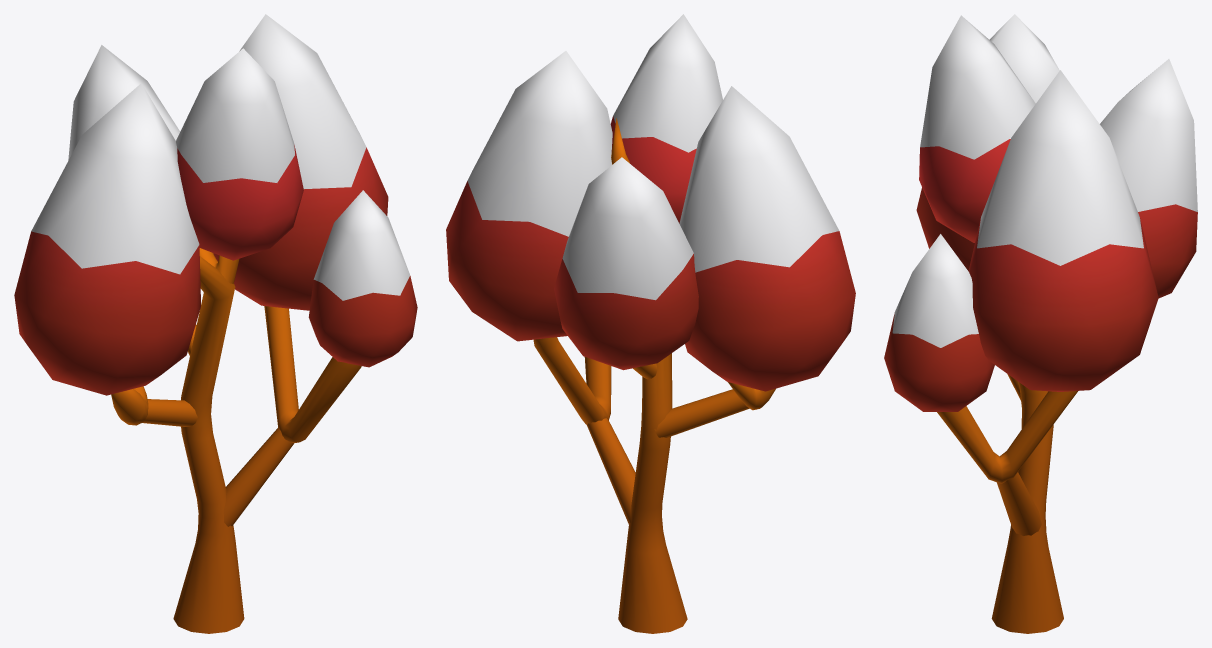
File: Tree_04.1_snow.fbx
3 renders of one model, left to right at view 1: azimuth 30°, elevation 25°; view 2: azimuth 150°, elevation 25°; view 3: azimuth 270°, elevation 25°, orthographic. The views are drawn at different scales.
Parts seen in each view (by area): view 1: Tree_04.1_snow; view 2: Tree_04.1_snow; view 3: Tree_04.1_snow.
Part boxes in pixels (box(x1,y1,x2,y2)): Tree_04.1_snow: box(14, 14, 417, 633); Tree_04.1_snow: box(446, 14, 855, 633); Tree_04.1_snow: box(884, 14, 1197, 633).
Size of the model in its own units: 247 by 179 by 381.
